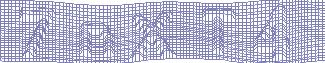4: (254, 3, 291, 62)
7: (17, 5, 57, 63)
T: (200, 7, 236, 56)
X: (128, 10, 178, 63)
n: (78, 20, 116, 59)
